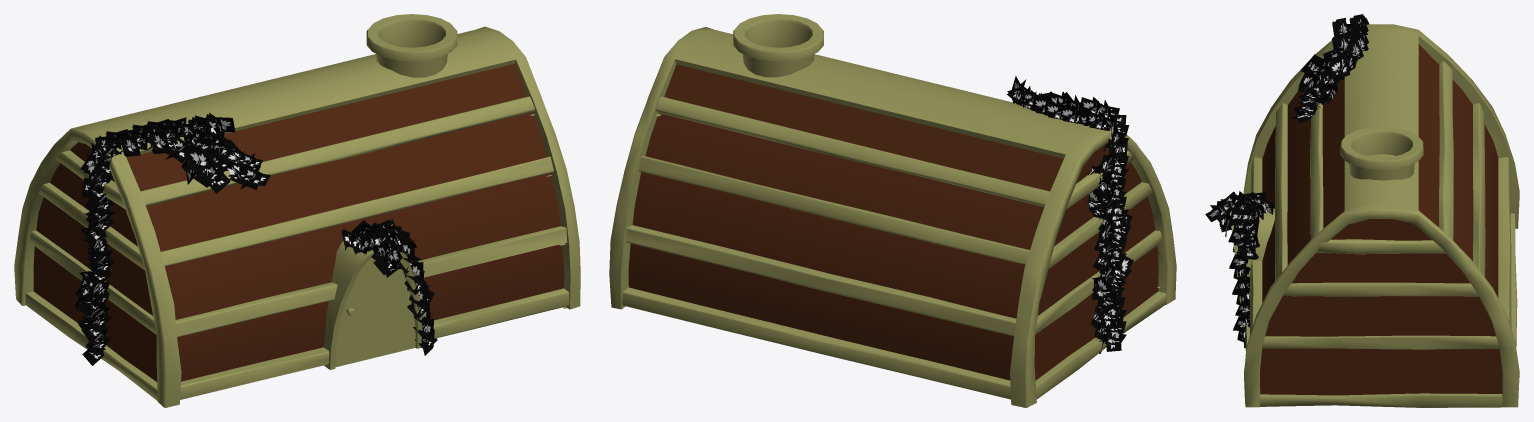
File: House_01.FBX
The picture shows the model from 3 angles, left to right: view 1: azimuth 30°, elevation 25°; view 2: azimuth 150°, elevation 25°; view 3: azimuth 270°, elevation 25°; orthographic projection. The views are drawn at different scales.
Visible parts, largest first — view 1: H1; view 2: H1; view 3: H1.
Boxes of the visible parts, x1,y1,x2,y2 form: H1: [14, 14, 580, 407]; H1: [609, 14, 1176, 407]; H1: [1230, 24, 1519, 407].
Bounding box in the file's own units: 690 × 383 × 472.
